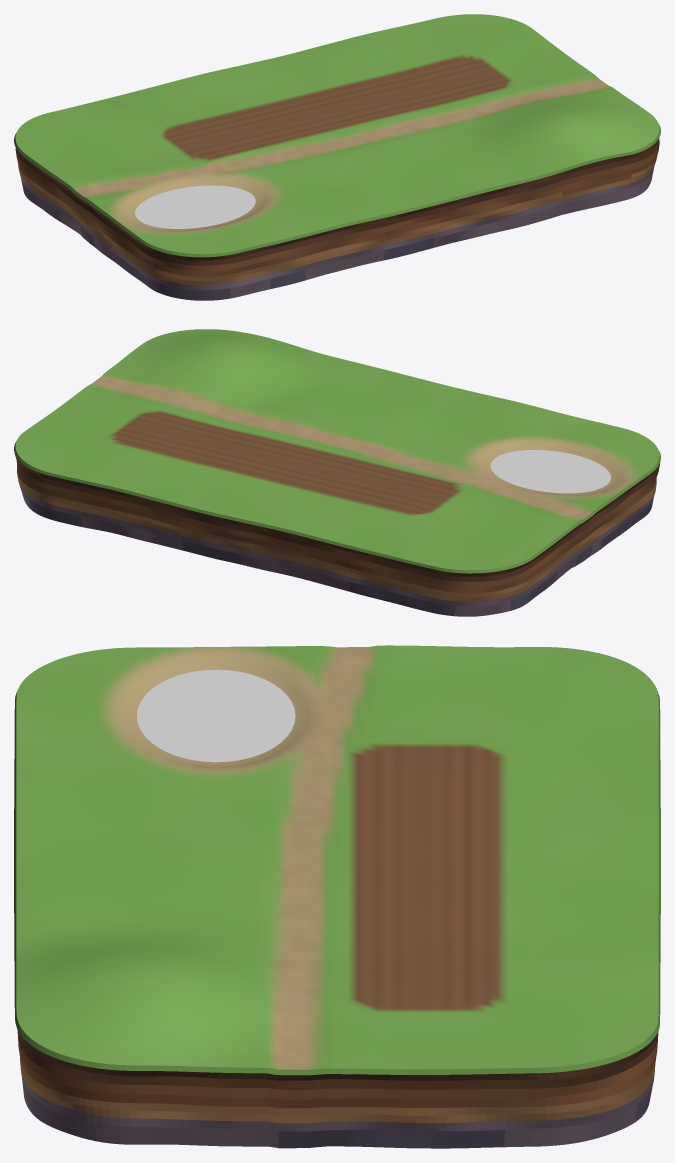
The model's file is terrain_level02.fbx.
3 views of the same model, one above another, from view 1: azimuth 30°, elevation 25°; view 2: azimuth 150°, elevation 25°; view 3: azimuth 270°, elevation 25° (orthographic). The views are drawn at different scales.
Visible parts, largest first — view 1: Ground, Water_trough; view 2: Ground, Water_trough; view 3: Ground, Water_trough.
Boxes of the visible parts, x1,y1,x2,y2 form: Ground: (14, 14, 660, 300); Water_trough: (135, 185, 255, 228); Ground: (14, 329, 660, 616); Water_trough: (490, 450, 610, 493); Ground: (14, 645, 660, 1148); Water_trough: (137, 669, 295, 762).
Size of the model in its own units: 14.07 by 1.73 by 9.07.
